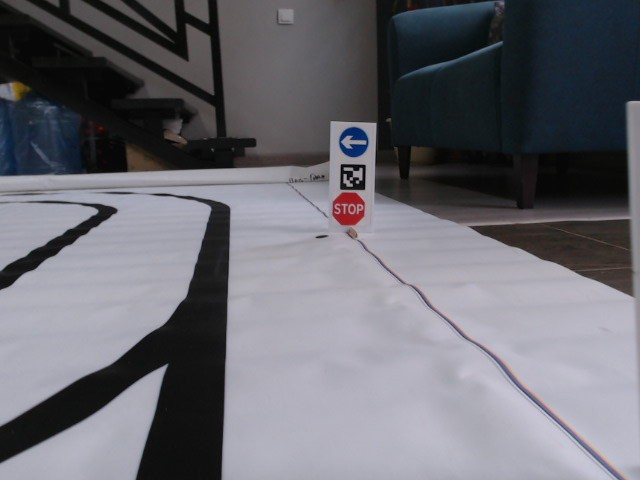Stop: (332, 191, 366, 226)
